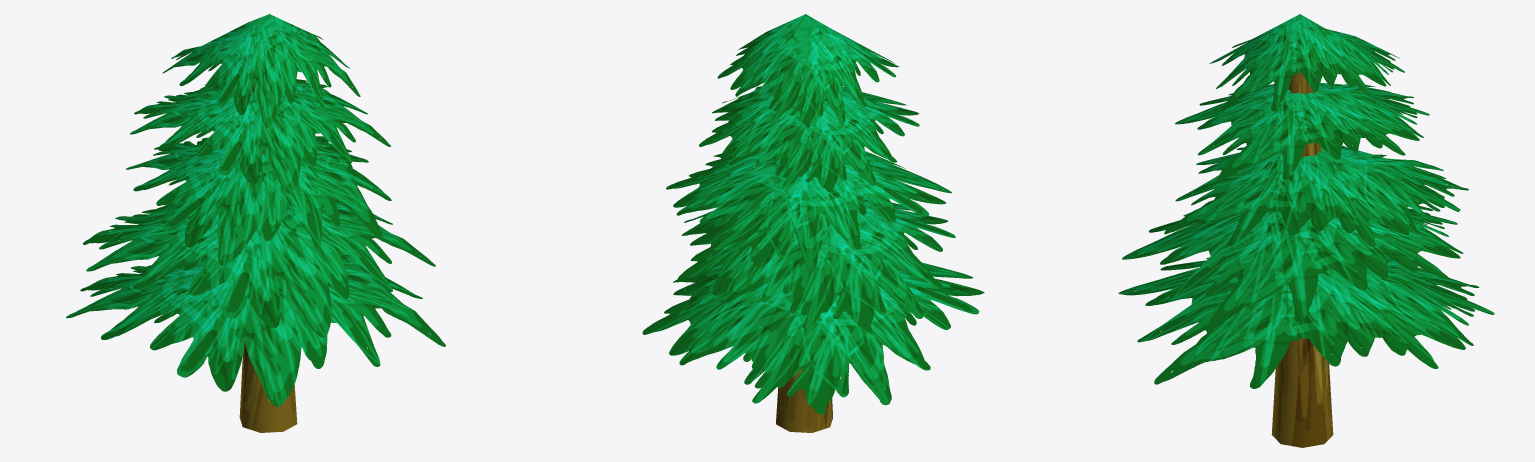
The model's file is tree.dae.
3 views of the same model, side by side, from view 1: azimuth 30°, elevation 25°; view 2: azimuth 150°, elevation 25°; view 3: azimuth 270°, elevation 25° (orthographic). The views are drawn at different scales.
Parts seen in each view (by area): view 1: Cylinder; view 2: Cylinder; view 3: Cylinder.
Part boxes in pixels (x1=…): Cylinder: x1=66, y1=14, x2=445, y2=432; Cylinder: x1=642, y1=14, x2=984, y2=432; Cylinder: x1=1118, y1=14, x2=1494, y2=447.
Bounding box in the file's own units: 10.57 × 10.56 × 11.29.
